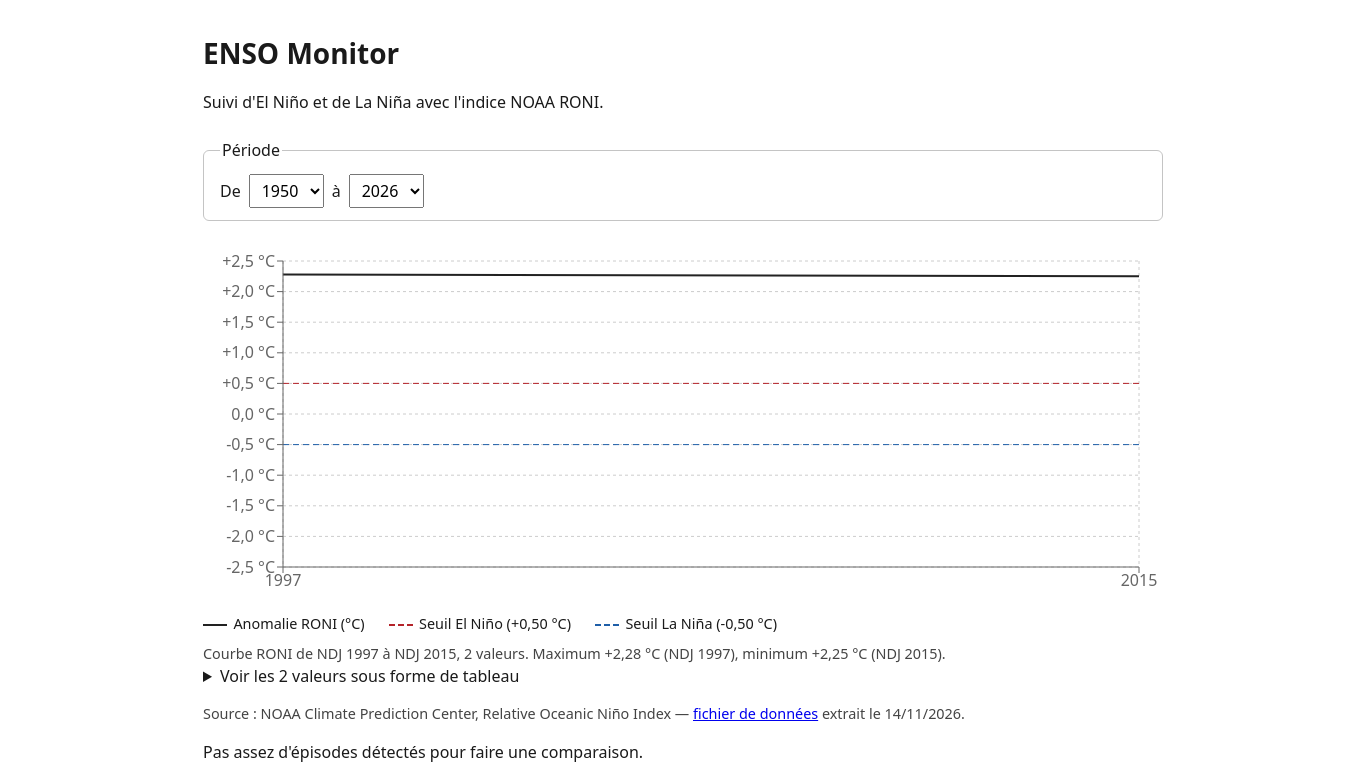
updates displayed values when the period changes
# L'utilisateur choisit 2010 comme année de début.
Select "2010" in the dropdown labelled "De" at (286, 191), box [249,174,324,208]
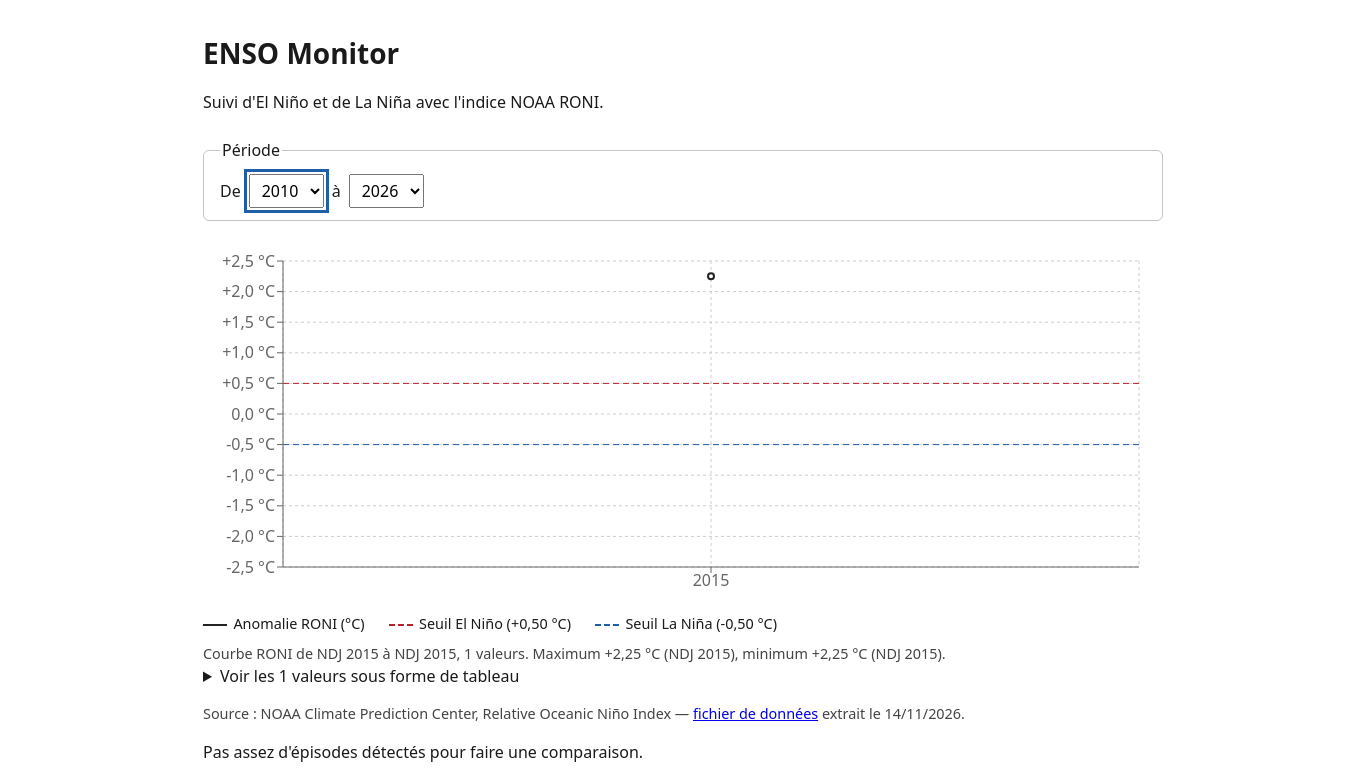
expect the icon "1997" is gone: met
